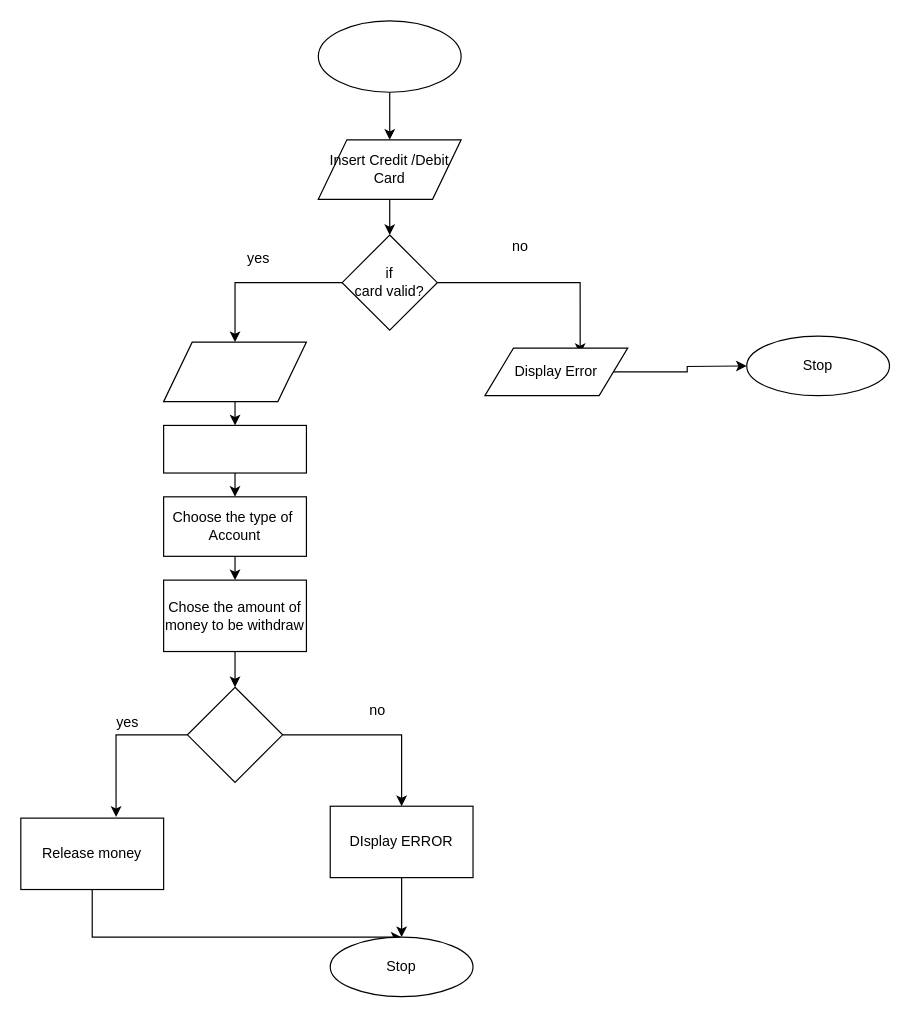
Some shapes in this 910 by 1017 pixel diagram are drawn without their labels. The centre of each missing label's shape, as x and y in pixels:
"Insert Pin Code" goes at pixel 234 371.
"Select Language" goes at pixel 234 448.
"Start" goes at pixel 389 56.
"Sufficient Balance" goes at pixel 234 734.
